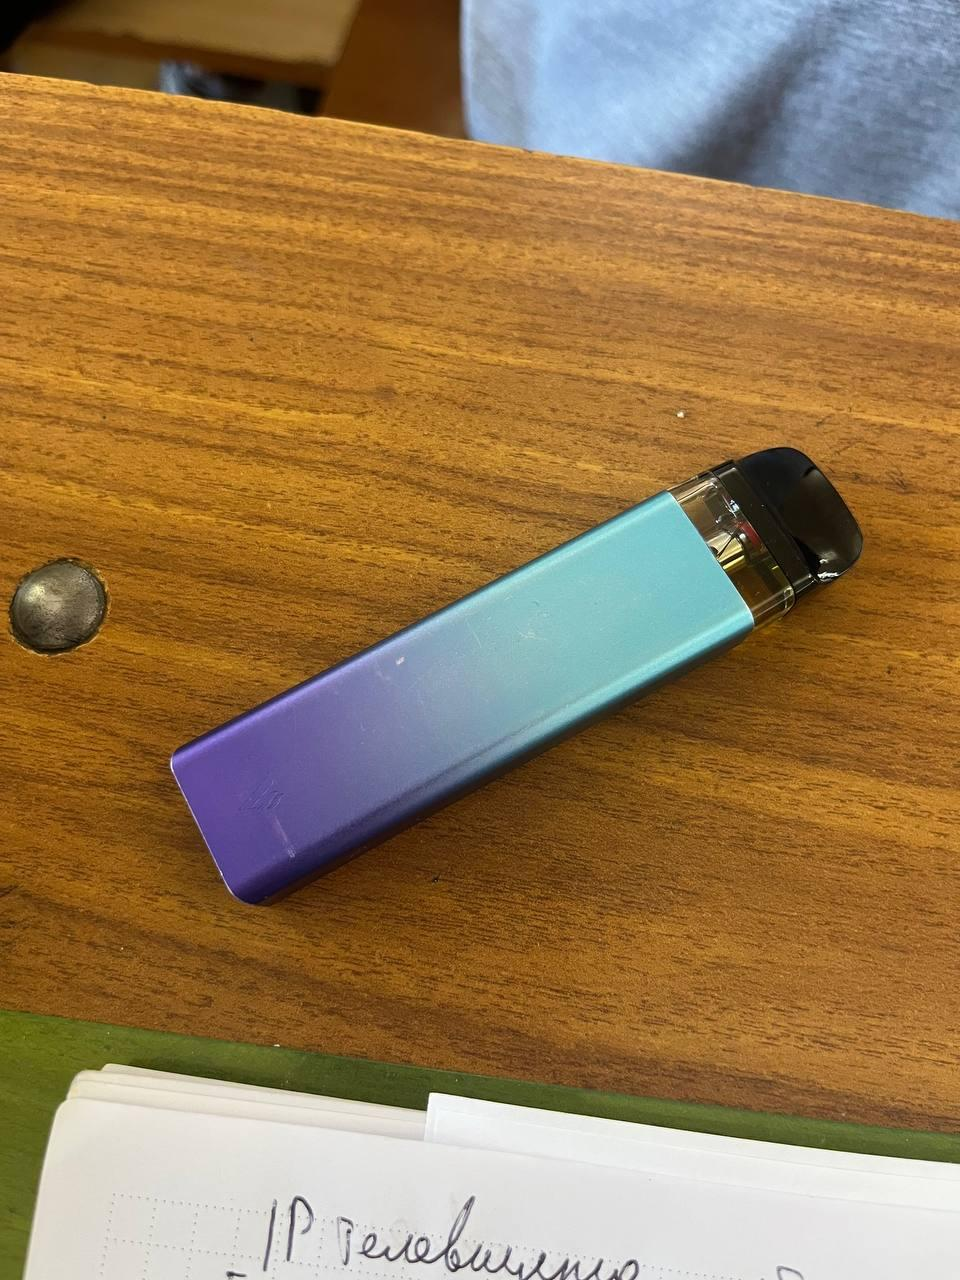Vape: (172, 447, 861, 902)
